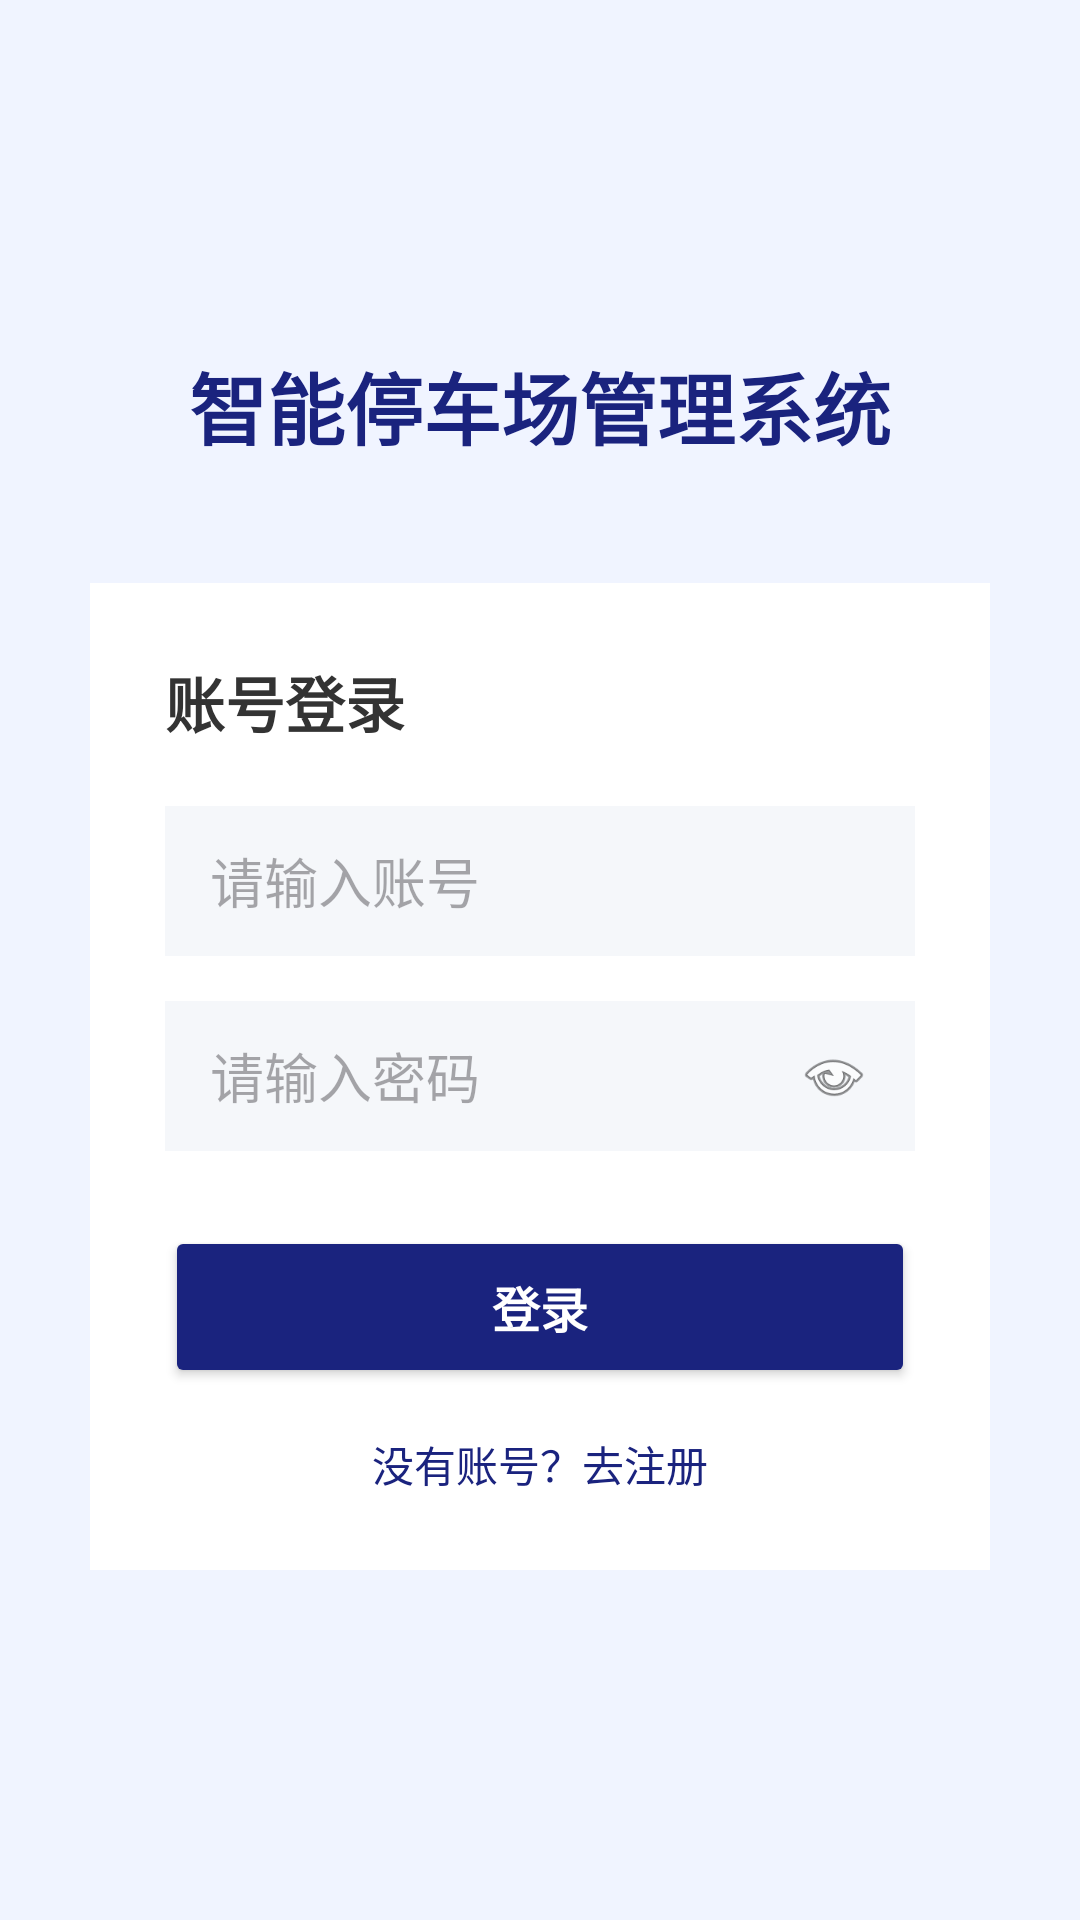

Screen size 1080×1920. Icon name, then its center in pixels as [x,y]:
view: [834,1077]
